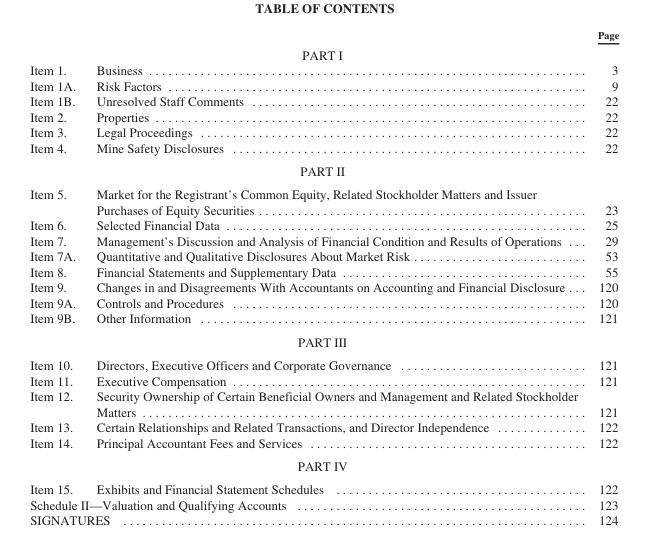table: (29, 28, 618, 526)
table column: (85, 28, 587, 526), (29, 28, 85, 526), (587, 28, 618, 526)
table column header: (29, 28, 618, 43)
table projected row header: (29, 453, 618, 477), (29, 159, 618, 182), (29, 329, 618, 352), (29, 43, 618, 62)
table row: (29, 182, 618, 217), (29, 387, 618, 418), (29, 453, 618, 477), (29, 159, 618, 182), (29, 329, 618, 352), (29, 139, 618, 159), (29, 352, 618, 372), (29, 43, 618, 62), (29, 310, 618, 329), (29, 434, 618, 453), (29, 477, 618, 496), (29, 77, 618, 93), (29, 108, 618, 124), (29, 232, 618, 248), (29, 263, 618, 279), (29, 294, 618, 310), (29, 418, 618, 434), (29, 28, 618, 43), (29, 62, 618, 77), (29, 93, 618, 108), (29, 124, 618, 139), (29, 217, 618, 232), (29, 248, 618, 263), (29, 279, 618, 294), (29, 372, 618, 387), (29, 496, 618, 511), (29, 511, 618, 526)
table spanning cell: (29, 496, 587, 511), (29, 511, 587, 526)
